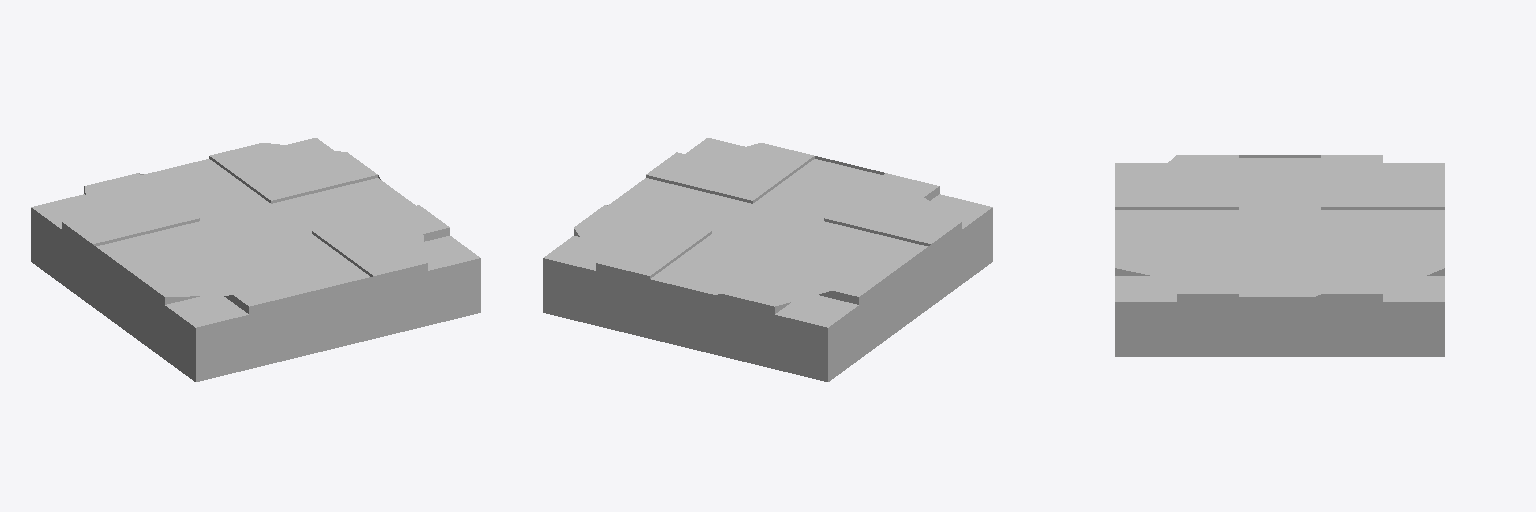
Rendered from roadTile_166.obj.
The picture shows the model from 3 angles: view 1: azimuth 30°, elevation 25°; view 2: azimuth 150°, elevation 25°; view 3: azimuth 270°, elevation 25°; orthographic projection.
Visible parts, largest first — view 1: Mesh1 Group1 Model; view 2: Mesh1 Group1 Model; view 3: Mesh1 Group1 Model.
Part boxes in pixels (x1,y1,x2,y2): Mesh1 Group1 Model: (31,138,480,381); Mesh1 Group1 Model: (543,138,992,381); Mesh1 Group1 Model: (1115,155,1444,356).
Size of the model in its own units: 3 by 0.63 by 3.